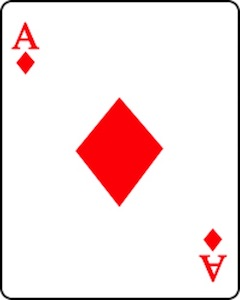AceOfDiamonds: (2, 1, 238, 299)
